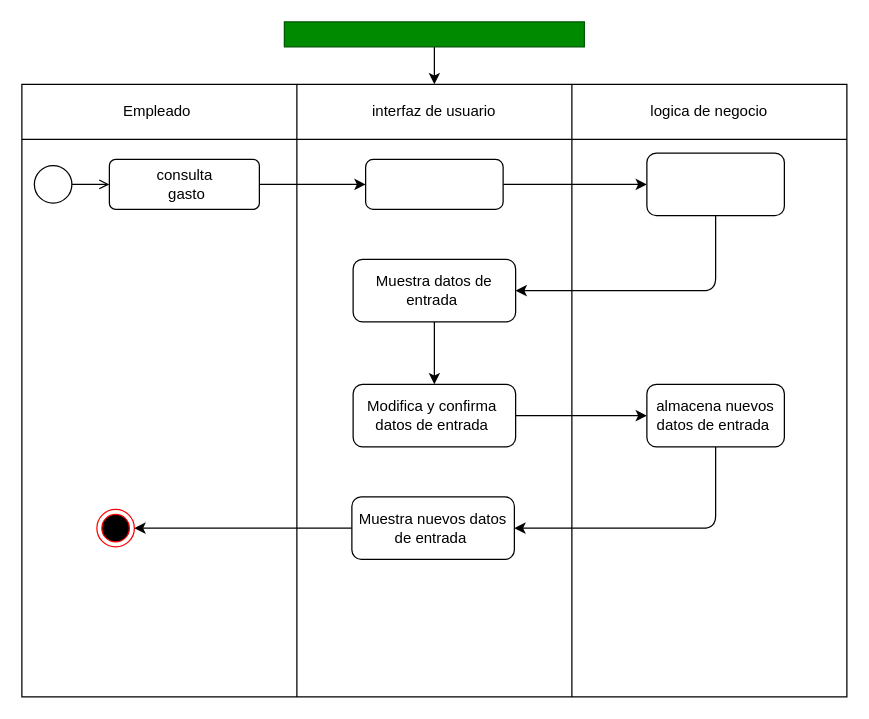
This 869x719 diagram has some shape labels left out. Each missing label, with the centre of its shape:
"Consulta datos de entrada" belongs at (x=715, y=184).
"DAE.8.2.ACTUALIZAR TIPO DE GASTO" belongs at (x=433, y=34).
"Selecciona Nombre del gasto" belongs at (x=433, y=183).
